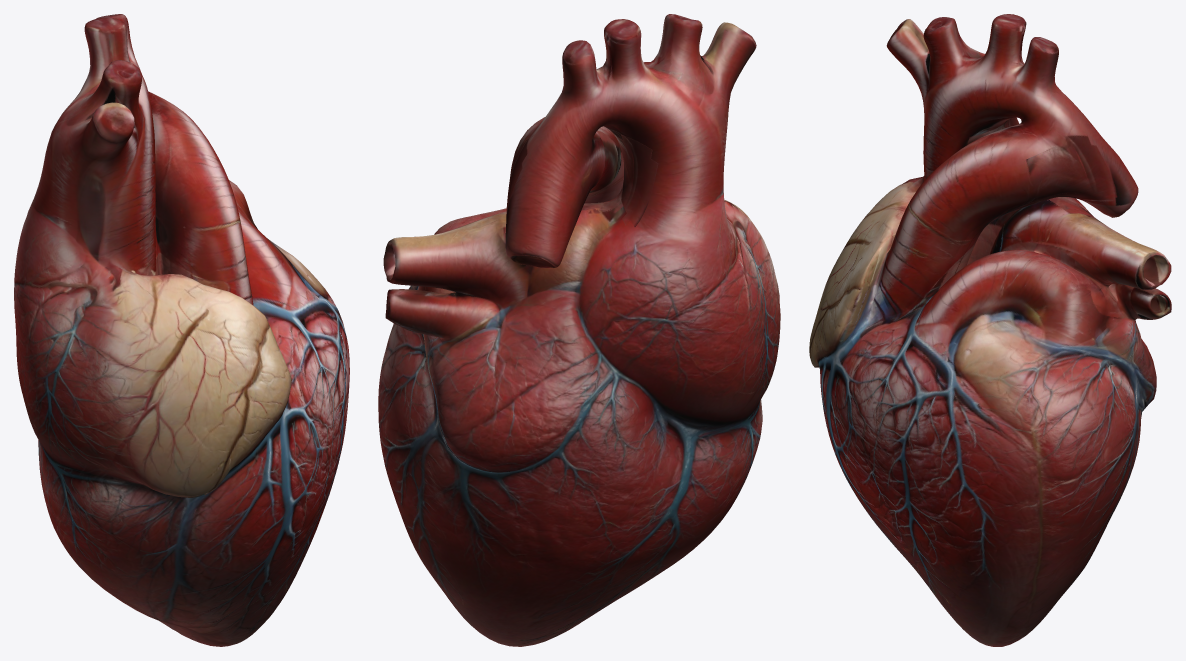
The model's file is humanHeart.glb.
The picture shows the model from 3 angles, left to right: view 1: azimuth 30°, elevation 25°; view 2: azimuth 150°, elevation 25°; view 3: azimuth 270°, elevation 25°; orthographic projection. The views are drawn at different scales.
Parts seen in each view (by area): view 1: Stylized Human Heart; view 2: Stylized Human Heart; view 3: Stylized Human Heart.
Part boxes in pixels (box(x1,y1,x2,y2)): Stylized Human Heart: box(14, 14, 349, 646); Stylized Human Heart: box(378, 14, 780, 646); Stylized Human Heart: box(809, 14, 1171, 646).
Size of the model in its own units: 3.47 by 6.49 by 3.71.
Materials: 1 (1 with a texture image).
